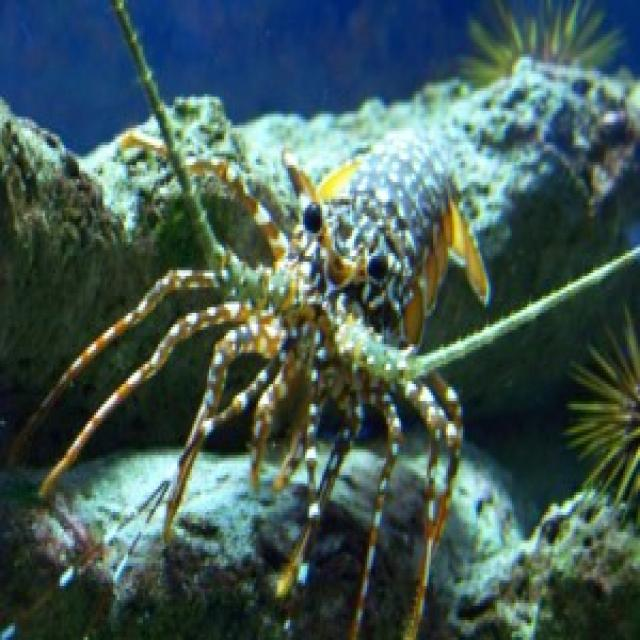lobsters: (60, 0, 576, 632)
